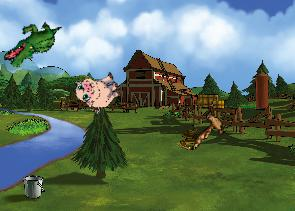crocodile: (1, 9, 63, 78)
eagle: (190, 103, 230, 153)
pig: (71, 64, 125, 117)
